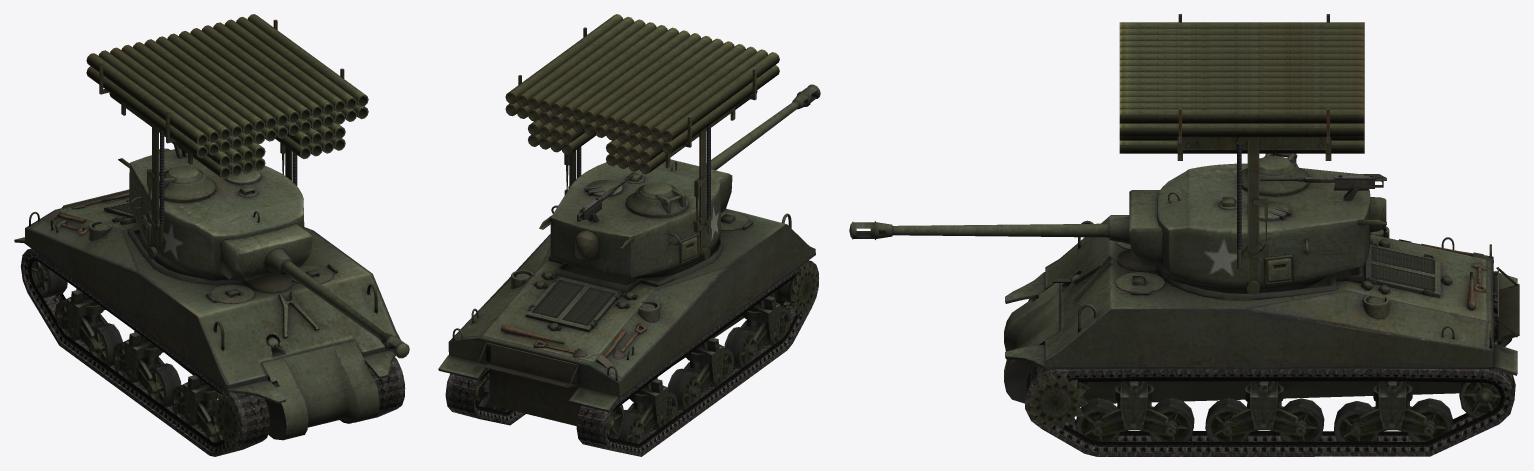
File: T34Calliope.FBX
3 renders of one model, left to right at view 1: azimuth 30°, elevation 25°; view 2: azimuth 150°, elevation 25°; view 3: azimuth 270°, elevation 25°, orthographic. The views are drawn at different scales.
Visible parts, largest first — view 1: T34希神; view 2: T34希神; view 3: T34希神.
Boxes of the visible parts, box(x1,y1,x2,y2) form: T34希神: box(14, 14, 409, 456); T34希神: box(438, 14, 820, 456); T34希神: box(849, 14, 1519, 456).
Bounding box in the file's own units: 1.3 × 2.22 × 3.84.
Materials: 4 (4 with a texture image).
